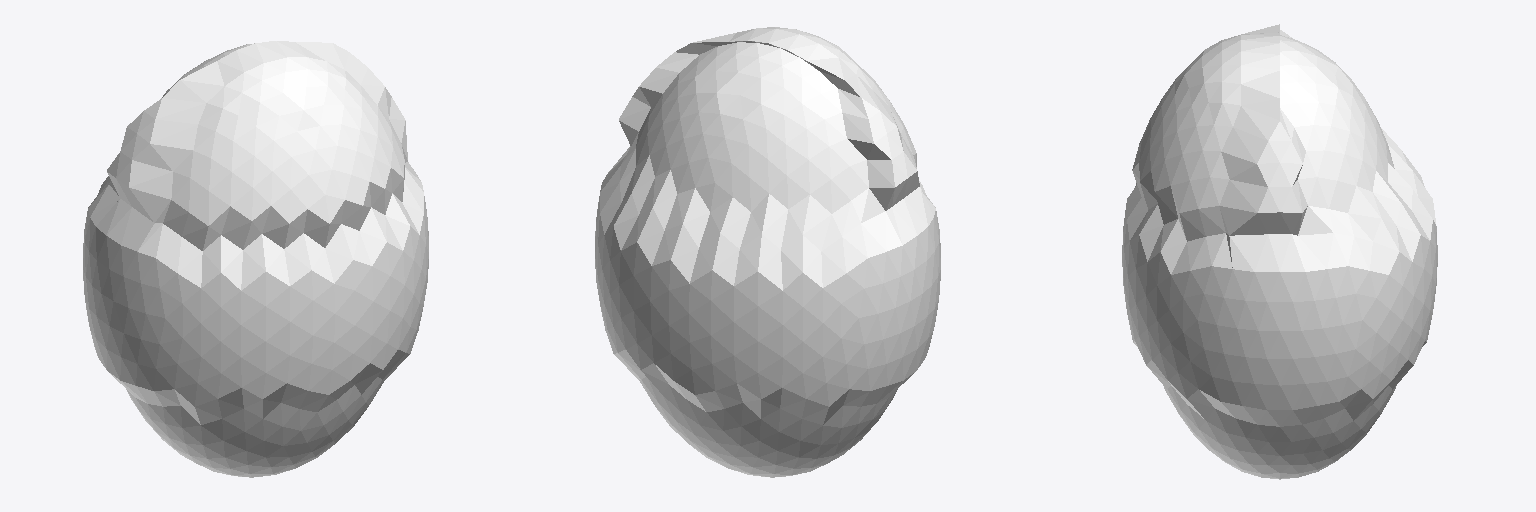
The model's file is normal_comparison.obj.
3 views of the same model, side by side, from view 1: azimuth 30°, elevation 25°; view 2: azimuth 150°, elevation 25°; view 3: azimuth 270°, elevation 25° (orthographic).
Size of the model in its own units: 1.31 by 1.72 by 1.16.